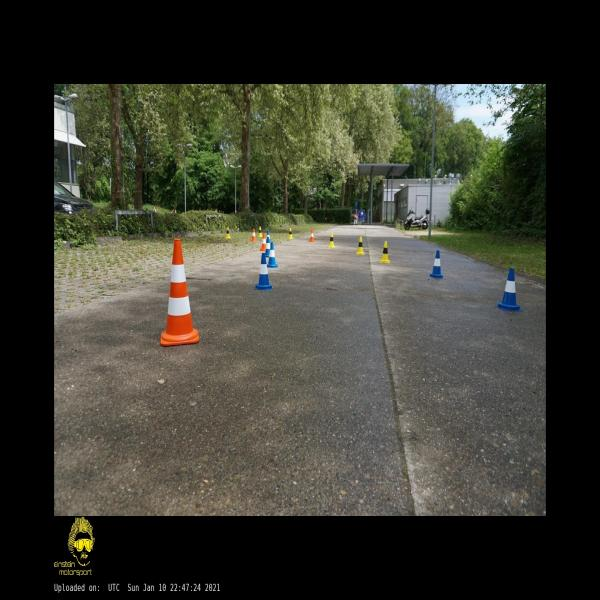blue_cone: (496, 268, 523, 312), (255, 254, 272, 290), (430, 250, 444, 279), (267, 242, 278, 268), (266, 237, 270, 257), (267, 230, 270, 240)
large_orange_cone: (160, 238, 200, 346)
orange_cone: (260, 233, 266, 251), (251, 228, 257, 242), (309, 228, 315, 242)
yellow_cone: (380, 242, 390, 264), (356, 236, 365, 255), (328, 232, 335, 248), (225, 227, 231, 239), (258, 226, 262, 238), (288, 228, 292, 239)
